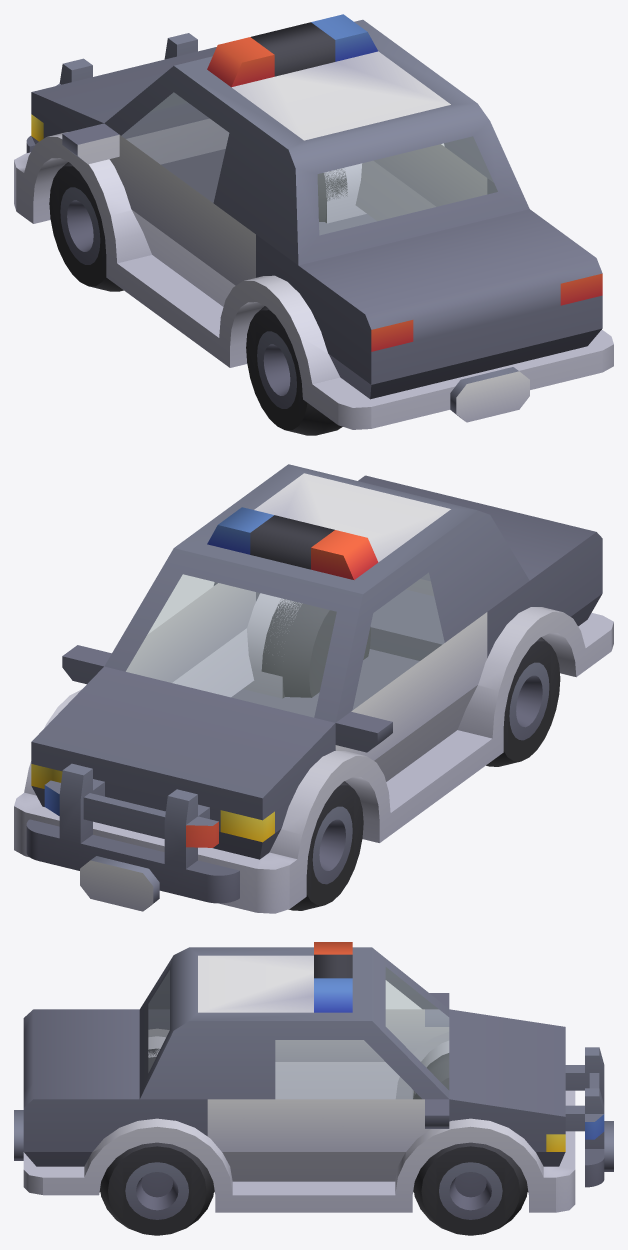
File: police.glb
3 views of the same model, one above another, from view 1: azimuth 30°, elevation 25°; view 2: azimuth 150°, elevation 25°; view 3: azimuth 270°, elevation 25° (orthographic). The views are drawn at different scales.
Visible parts, largest first — view 1: body, wheel-back-left, wheel-front-left, grill, wheel-front-right; view 2: body, grill, wheel-back-right, wheel-front-left, wheel-back-left; view 3: body, wheel-back-right, wheel-front-right, grill, wheel-front-left.
Boxes of the visible parts, x1=… form: body: x1=14, y1=14, x2=613, y2=429; wheel-back-left: x1=246, y1=306, x2=342, y2=435; wheel-front-left: x1=49, y1=162, x2=123, y2=291; grill: x1=26, y1=33, x2=197, y2=152; wheel-front-right: x1=317, y1=169, x2=347, y2=221; body: x1=14, y1=464, x2=613, y2=913; grill: x1=26, y1=763, x2=239, y2=911; wheel-back-right: x1=261, y1=599, x2=370, y2=697; wheel-front-left: x1=288, y1=781, x2=363, y2=910; wheel-back-left: x1=486, y1=637, x2=560, y2=766; body: x1=14, y1=942, x2=575, y2=1212; wheel-back-right: x1=100, y1=1142, x2=214, y2=1235; wheel-front-right: x1=413, y1=1142, x2=527, y2=1235; grill: x1=565, y1=1047, x2=613, y2=1187; wheel-front-left: x1=413, y1=1053, x2=449, y2=1099.
Bounding box in the file's own units: 2.4 × 2.08 × 4.96.
2 materials, 1 textured.
